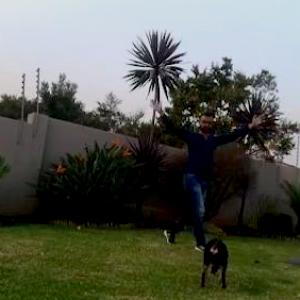takeoff: (157, 80, 256, 257)
